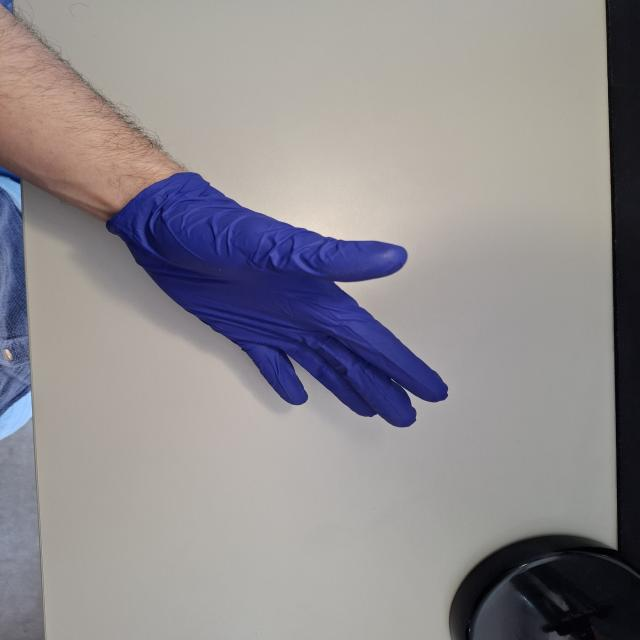glove_on: (103, 167, 453, 430)
